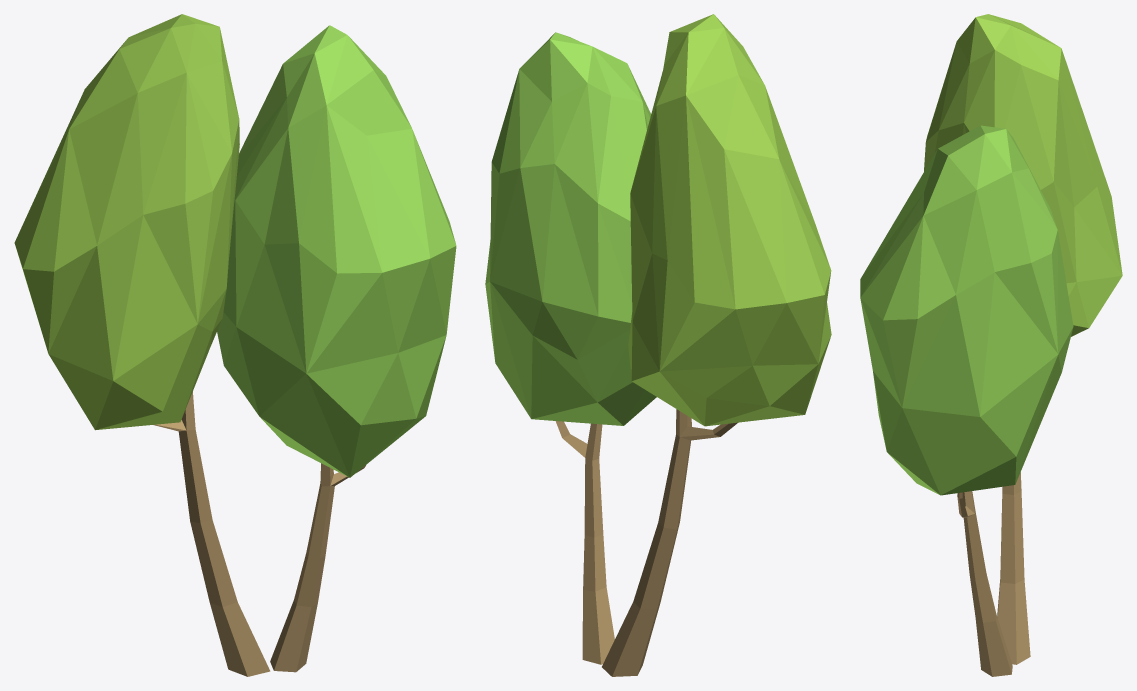
Rendered from Random_Tree_m_01.fbx.
3 views of the same model, side by side, from view 1: azimuth 30°, elevation 25°; view 2: azimuth 150°, elevation 25°; view 3: azimuth 270°, elevation 25° (orthographic). The views are drawn at different scales.
Visible parts, largest first — view 1: Random_Tree_m_01; view 2: Random_Tree_m_01; view 3: Random_Tree_m_01.
Part boxes in pixels (x1,y1,x2,y2): Random_Tree_m_01: [14, 14, 456, 676]; Random_Tree_m_01: [485, 14, 831, 676]; Random_Tree_m_01: [860, 14, 1122, 676].
Size of the model in its own units: 586 by 1010 by 395.
